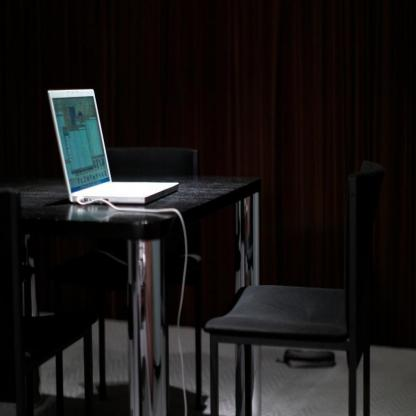board: (47, 87, 179, 204)
